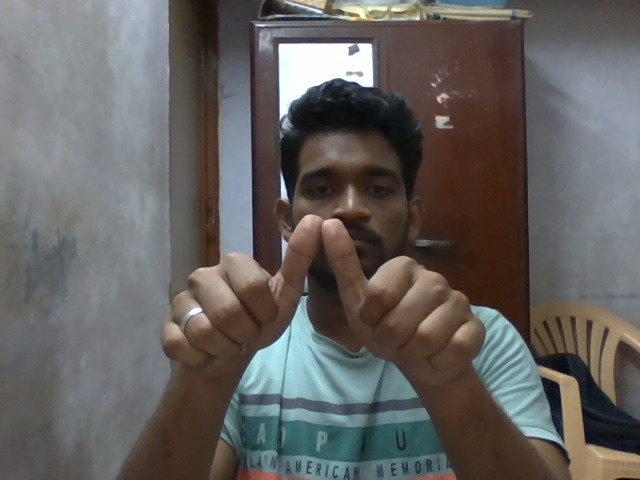A: (153, 209, 490, 397)
